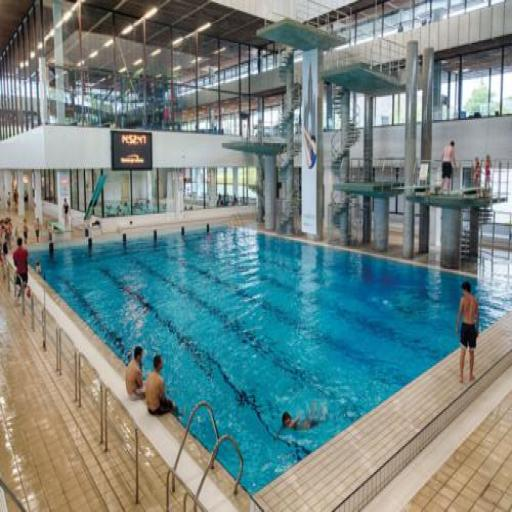swimming: (453, 277, 481, 387), (141, 351, 178, 421), (276, 398, 328, 437), (9, 234, 31, 303), (122, 343, 146, 404)
